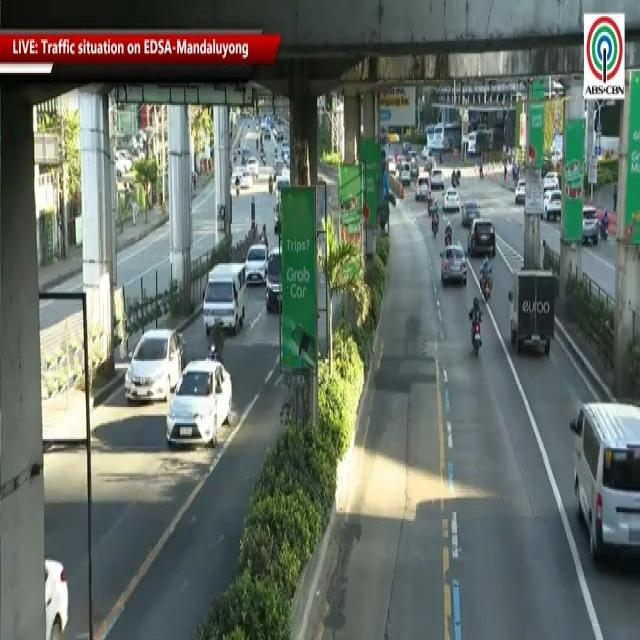car: (562, 386, 640, 570), (164, 368, 237, 455), (122, 334, 183, 412), (243, 236, 279, 286), (440, 238, 471, 295), (475, 213, 497, 267), (443, 188, 461, 217)
motorbike: (465, 290, 488, 374), (204, 303, 225, 380), (476, 249, 496, 310)
truck: (503, 252, 561, 365)
